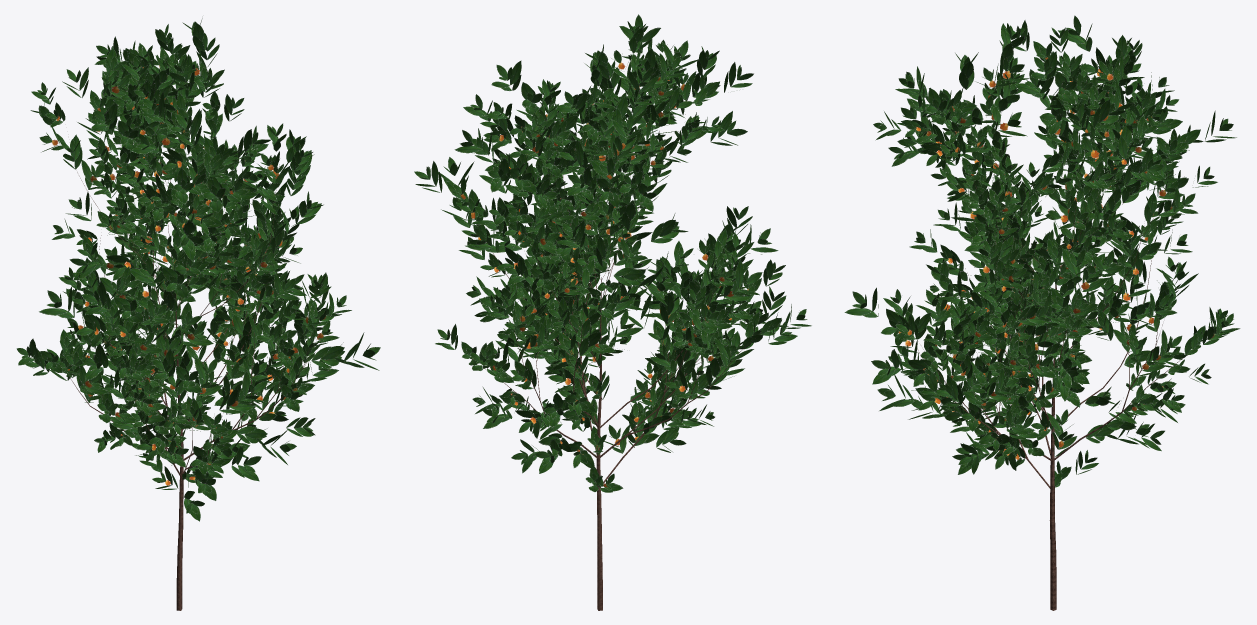
The model's file is kinmokusei_nocolor.fbx.
The picture shows the model from 3 angles, left to right: view 1: azimuth 30°, elevation 25°; view 2: azimuth 150°, elevation 25°; view 3: azimuth 270°, elevation 25°; orthographic projection.
Visible parts, largest first — view 1: Tree.001, 032.469, 032.506, 032.375, 032.437, 032.398, 032.363, 032.358, 032.572, 032.401, 032.579, 032.307 (+55 smaller); view 2: Tree.001, 032.309, 032.351, 032.469, 032.401, 032.510, 032.324, 032.383, 032.348, 032.417, 032.358, 032.434 (+46 smaller); view 3: Tree.001, 032.375, 032.591, 032.363, 032.452, 032.404, 032.309, 032.526, 032.380, 032.500, 032.544, 032.368 (+47 smaller).
Boxes of the visible parts, x1,y1,x2,y2 form: Tree.001: (69, 137, 313, 610); 032.469: (39, 286, 106, 347); 032.506: (81, 280, 143, 322); 032.375: (311, 332, 380, 370); 032.437: (202, 176, 257, 212); 032.398: (180, 209, 222, 261); 032.363: (219, 369, 267, 413); 032.358: (162, 257, 209, 298); 032.572: (91, 103, 138, 150); 032.401: (69, 249, 136, 281); 032.579: (151, 349, 202, 393); 032.307: (80, 343, 138, 380); Tree.001: (485, 114, 755, 610); 032.309: (491, 60, 542, 115); 032.351: (706, 331, 753, 386); 032.469: (714, 259, 762, 304); 032.401: (613, 266, 675, 305); 032.510: (566, 166, 619, 208); 032.324: (534, 438, 594, 473); 032.383: (488, 157, 537, 192); 032.348: (660, 261, 703, 324); 032.417: (579, 310, 642, 356); 032.358: (617, 213, 688, 249); 032.434: (558, 139, 620, 185); Tree.001: (914, 120, 1193, 610); 032.375: (871, 349, 937, 392); 032.591: (1015, 69, 1066, 136); 032.363: (844, 287, 905, 346); 032.452: (994, 23, 1029, 86); 032.404: (1031, 51, 1076, 104); 032.309: (1093, 76, 1144, 128); 032.526: (1062, 248, 1109, 299); 032.380: (1058, 15, 1108, 83); 032.500: (934, 375, 997, 412); 032.544: (992, 77, 1027, 136); 032.368: (877, 375, 948, 412).
Bounding box in the file's own units: 128 × 205 × 128.
3 materials, 3 textured.
